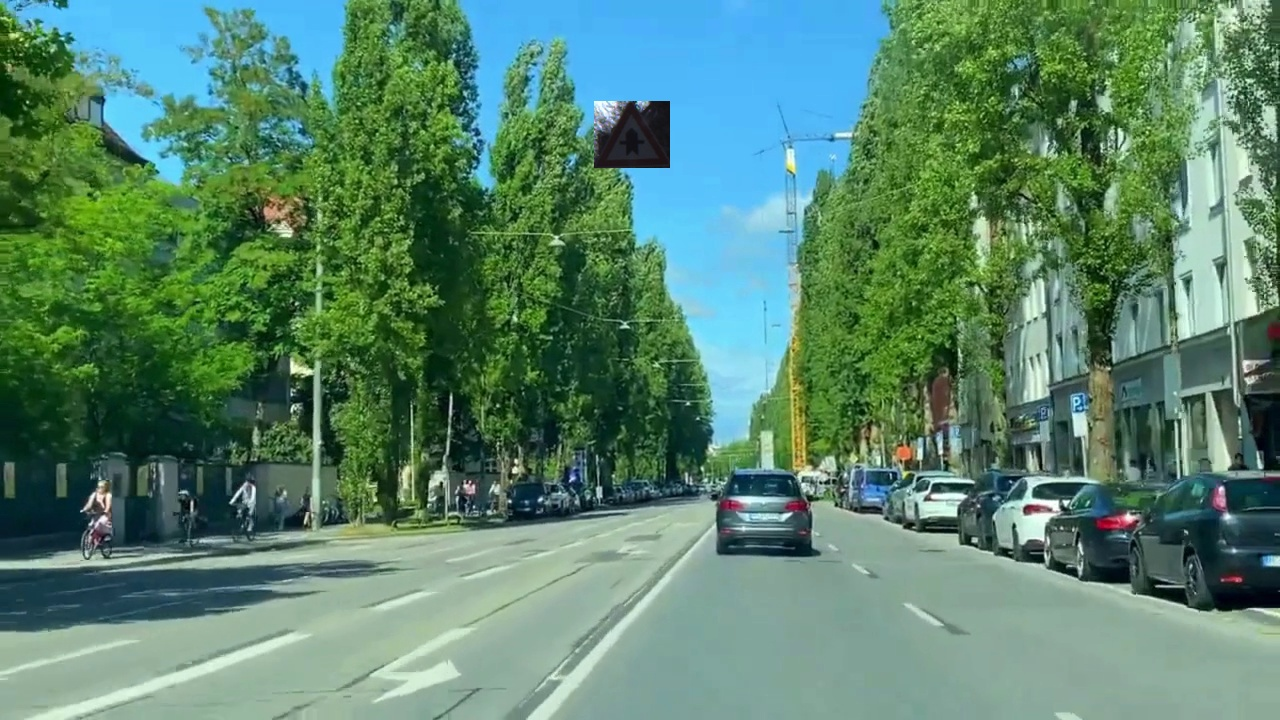Right-of-way: (594, 101, 670, 168)
